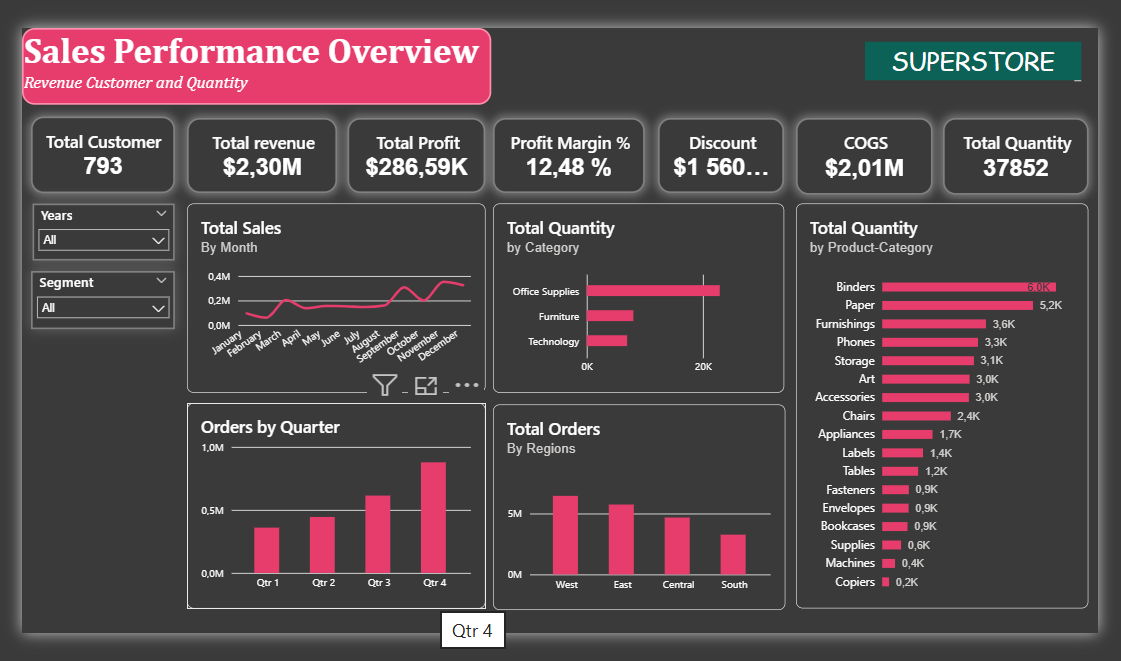

Layout of this report page (visuals, bound fields, positions):
{"tool":"powerbi","page":{"name":"Sales & Qty","canvas":[1280,720],"ordinal":0},"visuals":[{"type":"textbox","title":"Sales Performance Overview","box":[0,0,558.9,91.1],"z":0},{"type":"lineChart","title":"Total Sales","fields":{"Category":["Sample - Superstore - Sample - Superstore csv (3).Order Date.Variation.Date Hierarchy.Month"],"Y":["Sum(Sample - Superstore - Sample - Superstore csv (3).Sales)"]},"box":[196.4,208.9,355.4,225],"z":4000},{"type":"clusteredBarChart","title":"Total Quantity","fields":{"Category":["Sample - Superstore - Sample - Superstore csv (3).Category"],"Y":["Sum(Superstore.Quantity)"]},"box":[560.7,208.9,346.4,225],"z":9000},{"type":"barChart","title":"Total Quantity","fields":{"Category":["Sample - Superstore - Sample - Superstore csv (3).Sub-Category"],"Y":["Sum(Sample - Superstore - Sample - Superstore csv (3).Quantity)"]},"box":[921.4,208.9,348.2,482.1],"z":10000},{"type":"columnChart","title":"Orders by Quarter","fields":{"Category":["Sample - Superstore - Sample - Superstore csv (3).Order Date.Variation.Date Hierarchy.Quarter"],"Y":["Sum(Sample - Superstore - Sample - Superstore csv (3).Sales)"]},"box":[196.4,446.4,355.4,244.6],"z":11000},{"type":"clusteredColumnChart","title":"Total Orders ","fields":{"Y":["Sum(Sample - Superstore - Sample - Superstore csv (3).Order Year)"],"Category":["Superstore.Region"]},"box":[560.7,448.2,348.2,244.6],"z":12000},{"type":"textbox","title":"SUPERSTORE","box":[1003.9,16.3,257.1,47.2],"z":14000},{"type":"card","title":"Total revenue","fields":{"Values":["Sum(Sample - Superstore - Sample - Superstore csv (3).Sales)"]},"box":[196.4,107.1,178.6,89.3],"z":14001},{"type":"card","title":"Total Profit","fields":{"Values":["Sum(Sample - Superstore - Sample - Superstore csv (3).Profit)"]},"box":[387.5,107.1,164.3,89.3],"z":14002},{"type":"card","title":"Profit Margin %","fields":{"Values":["Superstore.total profit margin"]},"box":[560.7,107.1,180.4,89.3],"z":14003},{"type":"card","title":"Total Quantity","fields":{"Values":["Sum(Sample - Superstore - Sample - Superstore csv (3).Quantity)"]},"box":[1096.4,107.1,173.2,91.1],"z":14004},{"type":"card","title":" Discount","fields":{"Values":["Sum(Sample - Superstore - Sample - Superstore csv (3).Discount)"]},"box":[757.1,107.1,150,89.3],"z":14005},{"type":"card","title":"COGS","fields":{"Values":["Sum(Superstore.Cost of goods sold)"]},"box":[921.4,107.1,162.5,91.1],"z":14006},{"type":"card","title":"Total Customer","fields":{"Values":["Count(Superstore.Customer Name)"]},"box":[10.7,105.4,171.4,91.1],"z":14007},{"type":"slicer","fields":{"Values":["Sample - Superstore - Sample - Superstore csv (3).Segment"]},"box":[10.7,289.3,171.4,69.6],"z":14008},{"type":"slicer","fields":{"Values":["Sample - Superstore - Sample - Superstore csv (3).Order Year"]},"box":[12.5,208.9,169.6,67.9],"z":14009}]}

Visuals, with their boxes on the page's 1280x720 design canvas (x1, y1, x2, y2). These are canvas units, not pixel positions in the 1121x661 screenshot, which may show the page scaled, cropped or inside an application window:
"Sales Performance Overview" textbox: l=0, t=0, r=559, b=91
"Total Sales" lineChart: l=196, t=209, r=552, b=434
"Total Quantity" clusteredBarChart: l=561, t=209, r=907, b=434
"Total Quantity" barChart: l=921, t=209, r=1270, b=691
"Orders by Quarter" columnChart: l=196, t=446, r=552, b=691
"Total Orders " clusteredColumnChart: l=561, t=448, r=909, b=693
"SUPERSTORE" textbox: l=1004, t=16, r=1261, b=64
"Total revenue" card: l=196, t=107, r=375, b=196
"Total Profit" card: l=388, t=107, r=552, b=196
"Profit Margin %" card: l=561, t=107, r=741, b=196
"Total Quantity" card: l=1096, t=107, r=1270, b=198
" Discount" card: l=757, t=107, r=907, b=196
"COGS" card: l=921, t=107, r=1084, b=198
"Total Customer" card: l=11, t=105, r=182, b=196
slicer - Sample - Superstore - Sample - Superstore csv (3).Segment: l=11, t=289, r=182, b=359
slicer - Sample - Superstore - Sample - Superstore csv (3).Order Year: l=12, t=209, r=182, b=277
